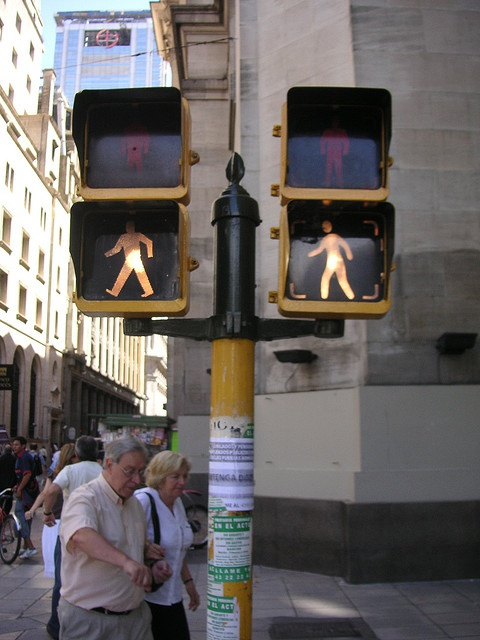non-vehicle: (179, 491, 210, 547), (0, 491, 23, 562)
